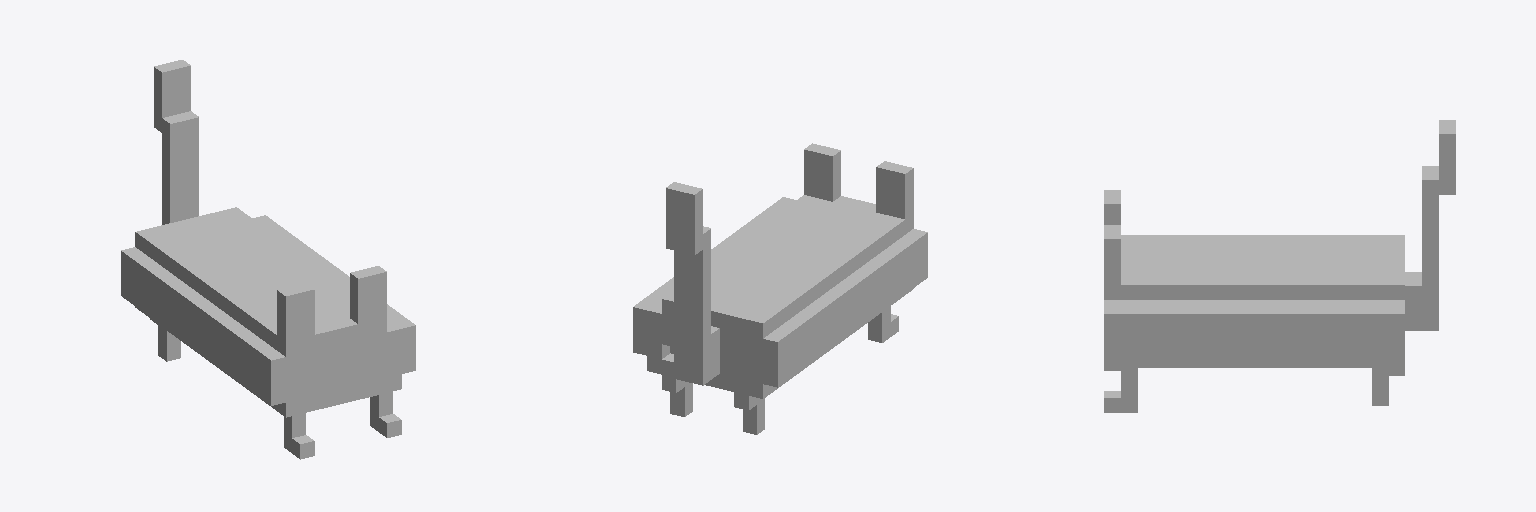
File: Cat.obj
3 renders of one model, left to right at view 1: azimuth 30°, elevation 25°; view 2: azimuth 150°, elevation 25°; view 3: azimuth 270°, elevation 25°, orthographic.
Visible parts, largest first — view 1: object 1; view 2: object 1; view 3: object 1.
Boxes of the visible parts, x1=… form: object 1: x1=121, y1=60, x2=415, y2=459; object 1: x1=633, y1=143, x2=927, y2=434; object 1: x1=1104, y1=120, x2=1455, y2=412.
Bounding box in the file's own units: 1 × 1.7 × 2.1.